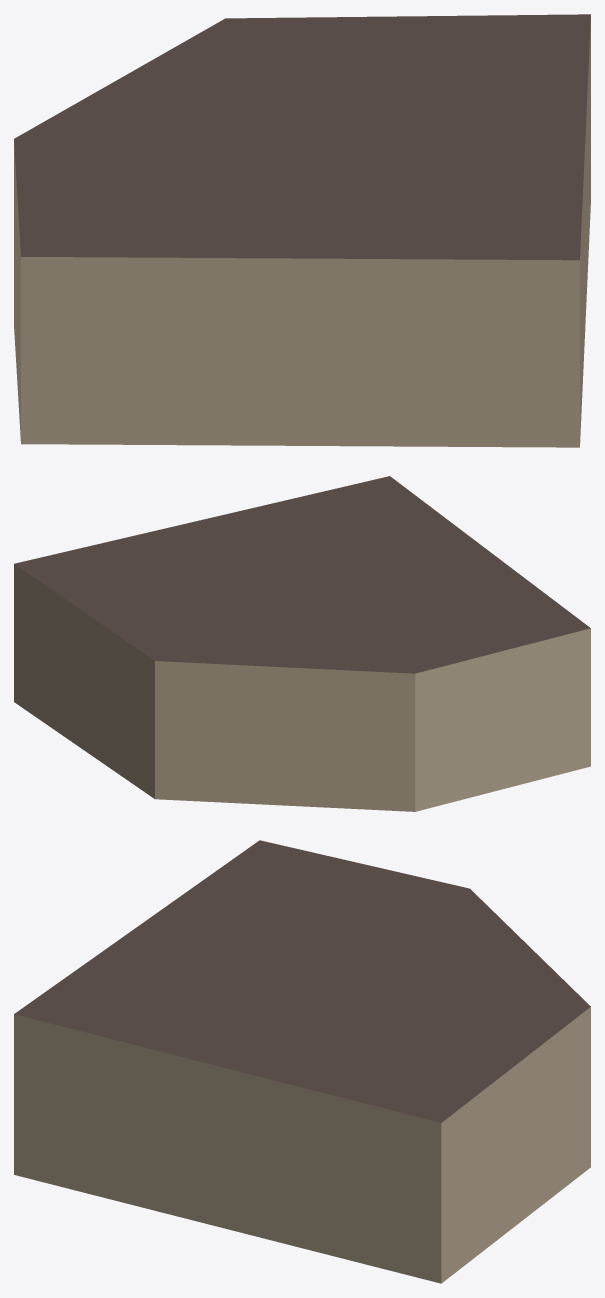
3 views of the same model, one above another, from view 1: azimuth 30°, elevation 25°; view 2: azimuth 150°, elevation 25°; view 3: azimuth 270°, elevation 25° (orthographic). The views are drawn at different scales.
Visible parts, largest first — view 1: HP-w298243647; view 2: HP-w298243647; view 3: HP-w298243647.
Part boxes in pixels (box(x1,y1,x2,y2)): HP-w298243647: box(14, 14, 590, 447); HP-w298243647: box(14, 476, 590, 811); HP-w298243647: box(14, 840, 590, 1283).
Bounding box in the file's own units: 33.98 × 9 × 29.29.
